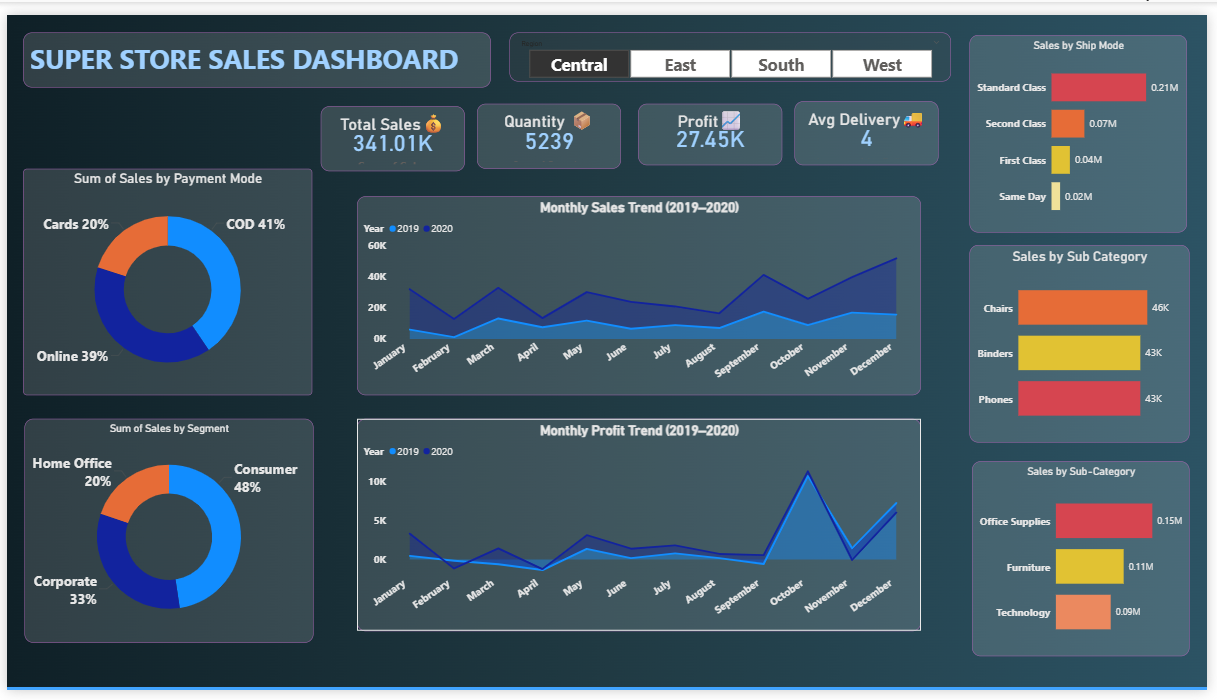

What the dashboard file says about the page in this screenshot:
{"tool":"powerbi","page":{"name":"Page 1","canvas":[1920,1080],"ordinal":0},"visuals":[{"type":"clusteredBarChart","title":" Sales by Sub-Category","fields":{"Category":["SuperStore_Sales_Dataset.Category"],"Y":["Sum(SuperStore_Sales_Dataset.Sales)"]},"box":[1544,714,348,312],"z":0},{"type":"clusteredBarChart","title":" Sales by Sub Category","fields":{"Category":["SuperStore_Sales_Dataset.Sub-Category","SuperStore_Sales_Dataset.Category"],"Y":["Sum(SuperStore_Sales_Dataset.Sales)"]},"box":[1540,368,352,316],"z":1000},{"type":"clusteredBarChart","title":" Sales by Ship Mode","fields":{"Category":["SuperStore_Sales_Dataset.Ship Mode","SuperStore_Sales_Dataset.Category"],"Y":["Sum(SuperStore_Sales_Dataset.Sales)"]},"box":[1540,32,348,316],"z":2000},{"type":"stackedAreaChart","title":"Monthly Sales Trend (2019–2020)","fields":{"Y":["Sum(SuperStore_Sales_Dataset.Sales)"],"Series":["SuperStore_Sales_Dataset.Order Date.Variation.Date Hierarchy.Year"],"Category":["SuperStore_Sales_Dataset.Order Date.Variation.Date Hierarchy.Month","SuperStore_Sales_Dataset.Order Date.Variation.Date Hierarchy.Day"]},"box":[560,290,902,318],"z":3000},{"type":"stackedAreaChart","title":"Monthly Profit Trend (2019–2020)","fields":{"Series":["SuperStore_Sales_Dataset.Order Date.Variation.Date Hierarchy.Year"],"Category":["SuperStore_Sales_Dataset.Order Date.Variation.Date Hierarchy.Month","SuperStore_Sales_Dataset.Order Date.Variation.Date Hierarchy.Day"],"Y":["Sum(SuperStore_Sales_Dataset.Profit)"]},"box":[560,646,902,340],"z":4000},{"type":"donutChart","fields":{"Category":["SuperStore_Sales_Dataset.Segment"],"Y":["Sum(SuperStore_Sales_Dataset.Sales)"]},"box":[28,646,462,358],"z":5000},{"type":"donutChart","fields":{"Category":["SuperStore_Sales_Dataset.Payment Mode"],"Y":["Sum(SuperStore_Sales_Dataset.Sales)"]},"box":[26,246,462,362],"z":6000},{"type":"slicer","fields":{"Values":["SuperStore_Sales_Dataset.Region"]},"box":[804,28,706,78],"z":7000},{"type":"textbox","box":[26,28,748,88],"z":8000},{"type":"card","title":"Total Sales💰","fields":{"Values":["Sum(SuperStore_Sales_Dataset.Sales)"]},"box":[502,146,230,104],"z":9000},{"type":"card","title":"Profit📈","fields":{"Values":["Sum(SuperStore_Sales_Dataset.Profit)"]},"box":[1010,142,230,98],"z":10000},{"type":"card","title":"Avg Delivery🚚","fields":{"Values":["Avg(SuperStore_Sales_Dataset.AvgDelivery)"]},"box":[1260,138,230,102],"z":11000},{"type":"card","title":"Quantity 📦","fields":{"Values":["Sum(SuperStore_Sales_Dataset.Quantity)"]},"box":[752,142,230,104],"z":12000}]}

Visuals, with their boxes in screenshot pixels (x1, y1, x2, y2), scaled from the page's 1920x1080 canvas onto the 1217x700 screenshot:
" Sales by Sub-Category" clusteredBarChart: {"left": 979, "top": 463, "right": 1199, "bottom": 665}
" Sales by Sub Category" clusteredBarChart: {"left": 976, "top": 239, "right": 1199, "bottom": 443}
" Sales by Ship Mode" clusteredBarChart: {"left": 976, "top": 21, "right": 1197, "bottom": 226}
"Monthly Sales Trend (2019–2020)" stackedAreaChart: {"left": 355, "top": 188, "right": 927, "bottom": 394}
"Monthly Profit Trend (2019–2020)" stackedAreaChart: {"left": 355, "top": 419, "right": 927, "bottom": 639}
donutChart - SuperStore_Sales_Dataset.Segment x Sum(SuperStore_Sales_Dataset.Sales): {"left": 18, "top": 419, "right": 311, "bottom": 651}
donutChart - SuperStore_Sales_Dataset.Payment Mode x Sum(SuperStore_Sales_Dataset.Sales): {"left": 16, "top": 159, "right": 309, "bottom": 394}
slicer - SuperStore_Sales_Dataset.Region: {"left": 510, "top": 18, "right": 957, "bottom": 69}
textbox: {"left": 16, "top": 18, "right": 491, "bottom": 75}
"Total Sales💰" card: {"left": 318, "top": 95, "right": 464, "bottom": 162}
"Profit📈" card: {"left": 640, "top": 92, "right": 786, "bottom": 156}
"Avg Delivery🚚" card: {"left": 799, "top": 89, "right": 944, "bottom": 156}
"Quantity 📦" card: {"left": 477, "top": 92, "right": 622, "bottom": 159}
